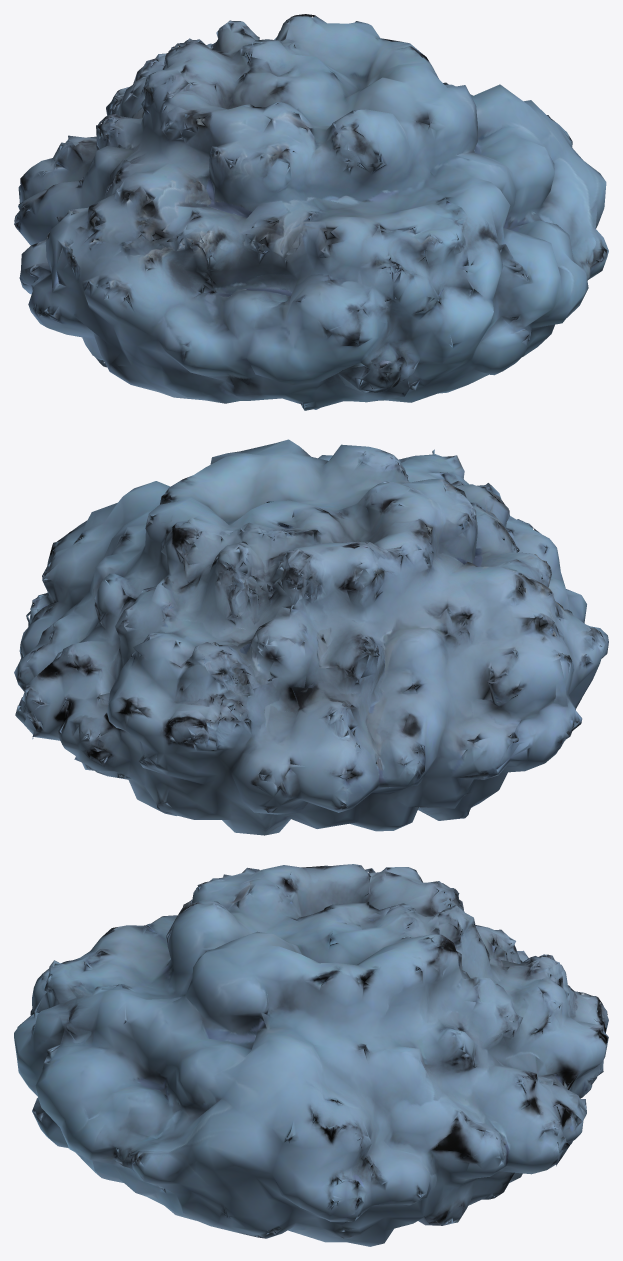
The model's file is Create_a_gently_swirl_0701041614_texture.glb.
The picture shows the model from 3 angles, top to bottom: view 1: azimuth 30°, elevation 25°; view 2: azimuth 150°, elevation 25°; view 3: azimuth 270°, elevation 25°; orthographic projection. The views are drawn at different scales.
Size of the model in its own units: 1.98 by 0.9854 by 1.99.
Materials: 1 (1 with a texture image).
